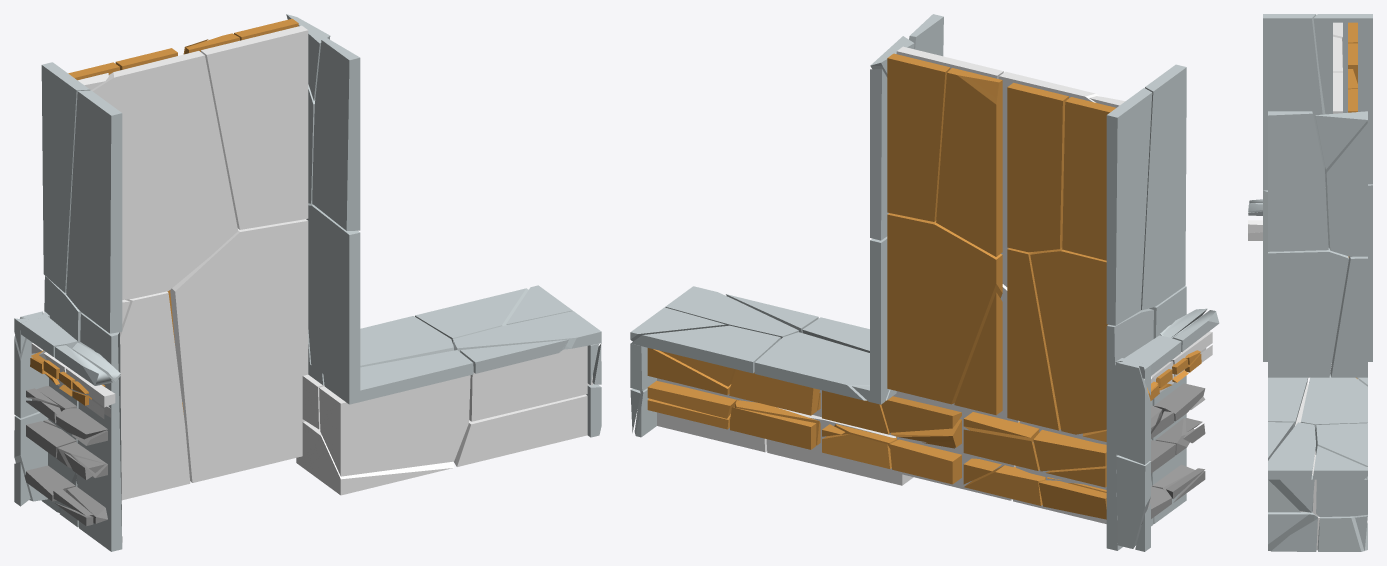
The model's file is cupboard and shoe rack ORIGINN.fbx.
The picture shows the model from 3 angles, left to right: view 1: azimuth 30°, elevation 25°; view 2: azimuth 150°, elevation 25°; view 3: azimuth 270°, elevation 25°; orthographic projection. The views are drawn at different scales.
Parts seen in each view (by area): view 1: group1331219294_cell.182, group1331219294_cell.186, group1331219294_cell.193, group1331219294_cell.191, group1331219294_cell.065, group1331219294_cell.172, group1331219294_cell.116, group1331219294_cell.114, group1331219294_cell.061, group1331219294_cell.174, group1331219294_cell.069, group1331219294_cell.180 (+20 smaller); view 2: group1331219294_cell.044, group1331219294_cell.026, group1331219294_cell.004, group1331219294_cell.061, group1331219294_cell.028, group1331219294_cell.065, group1331219294_cell.003, group1331219294_cell.030, group1331219294_cell.021, group1331219294_cell.014, group1331219294_cell.008, group1331219294_cell.063 (+36 smaller); view 3: group1331219294_cell.116, group1331219294_cell.114, group1331219294_cell.065, group1331219294_cell.108, group1331219294_cell.061, group1331219294_cell.112, group1331219294_cell.014, group1331219294_cell.019, group1331219294_cell.222, group1331219294_cell.110, group1331219294_cell.008, group1331219294_cell.012 (+24 smaller).
Boxes of the visible parts, x1,y1,x2,y2 form: group1331219294_cell.182: [175, 221, 308, 482]; group1331219294_cell.186: [93, 51, 237, 299]; group1331219294_cell.193: [201, 25, 308, 229]; group1331219294_cell.191: [120, 293, 190, 500]; group1331219294_cell.065: [66, 90, 122, 333]; group1331219294_cell.172: [319, 375, 470, 476]; group1331219294_cell.116: [306, 205, 360, 392]; group1331219294_cell.114: [312, 38, 360, 230]; group1331219294_cell.061: [41, 62, 89, 292]; group1331219294_cell.174: [471, 346, 592, 421]; group1331219294_cell.069: [77, 314, 122, 551]; group1331219294_cell.180: [457, 396, 587, 466]; group1331219294_cell.044: [887, 214, 1002, 403]; group1331219294_cell.026: [1030, 251, 1107, 434]; group1331219294_cell.004: [936, 68, 1002, 256]; group1331219294_cell.061: [1106, 88, 1152, 325]; group1331219294_cell.028: [1007, 82, 1068, 252]; group1331219294_cell.065: [1142, 64, 1186, 310]; group1331219294_cell.003: [887, 53, 949, 221]; group1331219294_cell.030: [1062, 97, 1115, 260]; group1331219294_cell.021: [1007, 249, 1058, 430]; group1331219294_cell.014: [754, 332, 896, 400]; group1331219294_cell.008: [631, 325, 780, 373]; group1331219294_cell.063: [1106, 310, 1153, 550]; group1331219294_cell.116: [1268, 252, 1348, 377]; group1331219294_cell.114: [1268, 111, 1328, 251]; group1331219294_cell.065: [1263, 14, 1325, 190]; group1331219294_cell.108: [1326, 123, 1367, 256]; group1331219294_cell.061: [1313, 14, 1372, 184]; group1331219294_cell.112: [1331, 258, 1367, 377]; group1331219294_cell.014: [1301, 374, 1367, 424]; group1331219294_cell.019: [1268, 422, 1315, 479]; group1331219294_cell.222: [1316, 476, 1367, 516]; group1331219294_cell.110: [1315, 111, 1367, 169]; group1331219294_cell.008: [1316, 423, 1367, 465]; group1331219294_cell.012: [1268, 377, 1307, 421].
Size of the model in its own units: 47.5 by 38.5 by 12.5.
